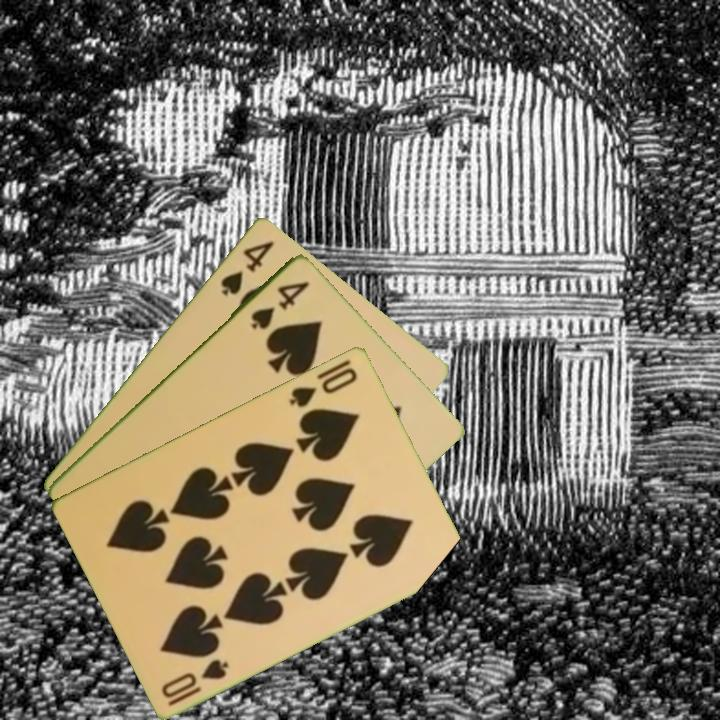10s: (158, 655, 232, 708), (285, 363, 361, 410)
4s: (216, 237, 277, 298), (247, 277, 312, 332)
